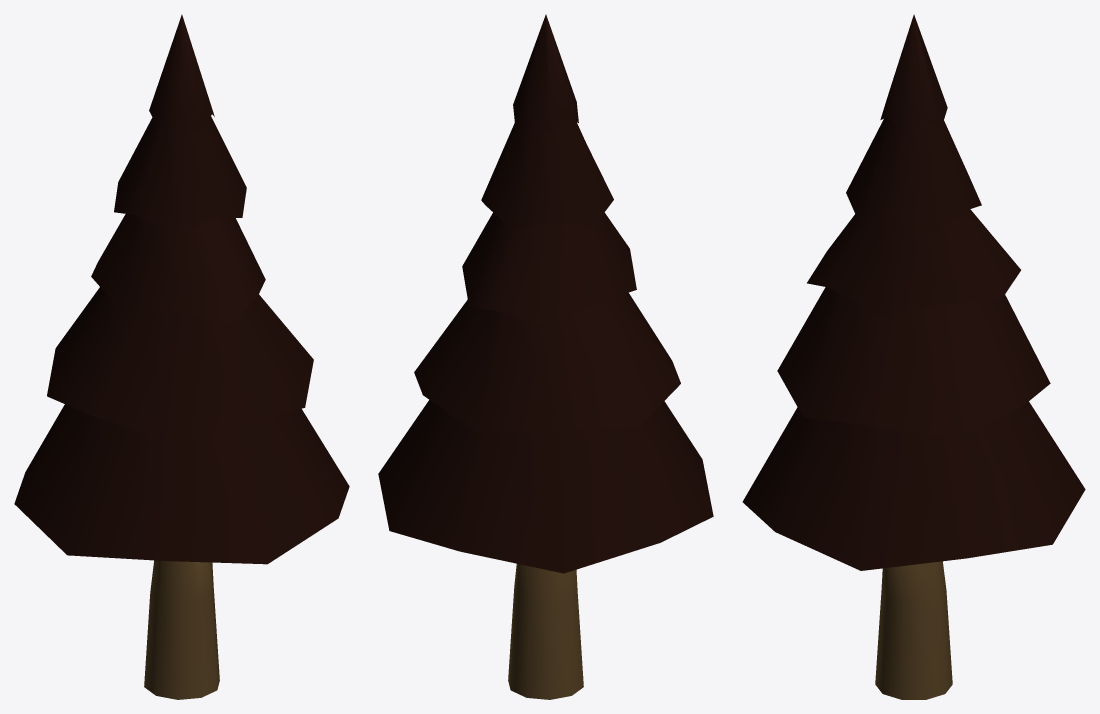
Rendered from burntsmalltreefbx.fbx.
3 renders of one model, left to right at view 1: azimuth 30°, elevation 25°; view 2: azimuth 150°, elevation 25°; view 3: azimuth 270°, elevation 25°, orthographic.
Visible parts, largest first — view 1: Cylinder.026, Cylinder.027; view 2: Cylinder.026, Cylinder.027; view 3: Cylinder.026, Cylinder.027.
Part boxes in pixels (x1,y1,x2,y2): Cylinder.026: (14, 14, 349, 564); Cylinder.027: (144, 560, 219, 699); Cylinder.026: (378, 14, 713, 573); Cylinder.027: (508, 563, 583, 699); Cylinder.026: (742, 14, 1085, 570); Cylinder.027: (875, 561, 952, 699).
Bounding box in the file's own units: 188 × 426 × 197.
